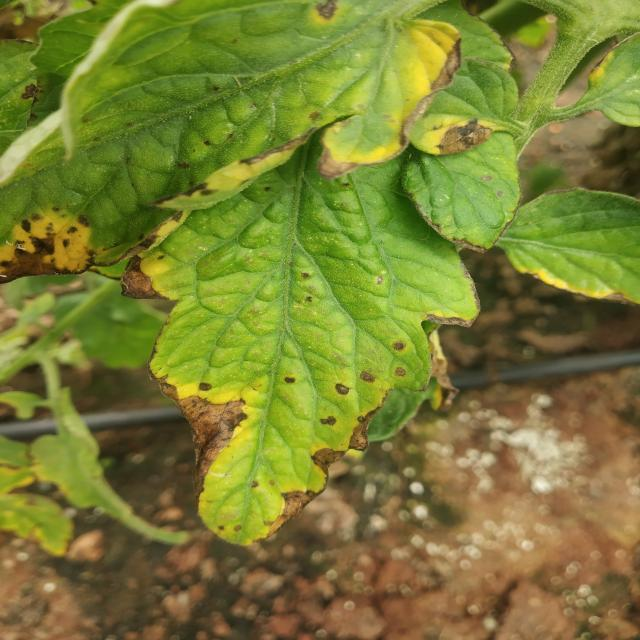Tomato mosaic virus leaf: (111, 246, 485, 550), (0, 113, 279, 287), (375, 0, 523, 160)
